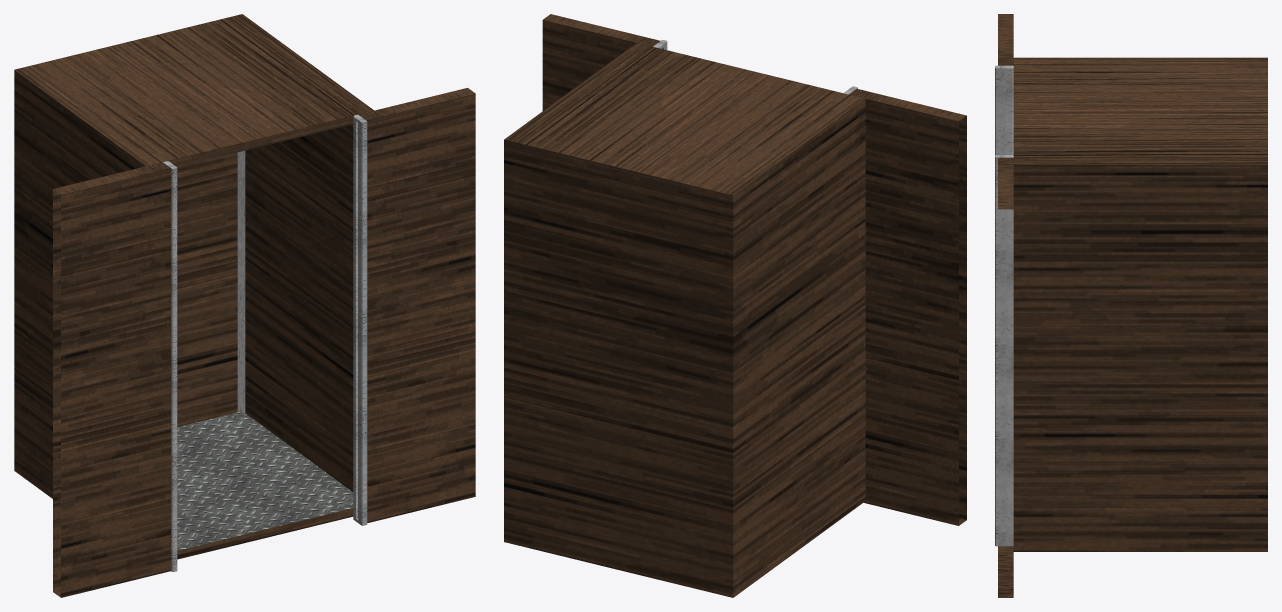
The model's file is elevator.glb.
3 renders of one model, left to right at view 1: azimuth 30°, elevation 25°; view 2: azimuth 150°, elevation 25°; view 3: azimuth 270°, elevation 25°, orthographic. The views are drawn at different scales.
Visible parts, largest first — view 1: Cube, Куб, Куб.001; view 2: Cube, Куб, Куб.001; view 3: Cube, Куб.001, Куб.
Boxes of the visible parts, left/top/right/bottom form: Cube: left=14, top=14, right=373, bottom=559; Куб: left=53, top=161, right=177, bottom=597; Куб.001: left=353, top=88, right=475, bottom=525; Cube: left=504, top=43, right=865, bottom=597; Куб: left=844, top=86, right=966, bottom=525; Куб.001: left=542, top=14, right=667, bottom=110; Cube: left=1013, top=57, right=1267, bottom=551; Куб.001: left=995, top=155, right=1013, bottom=597; Куб: left=995, top=14, right=1013, bottom=155.
Size of the model in its own units: 5.12 by 4.76 by 3.03.
Materials: 7 (5 with a texture image).
